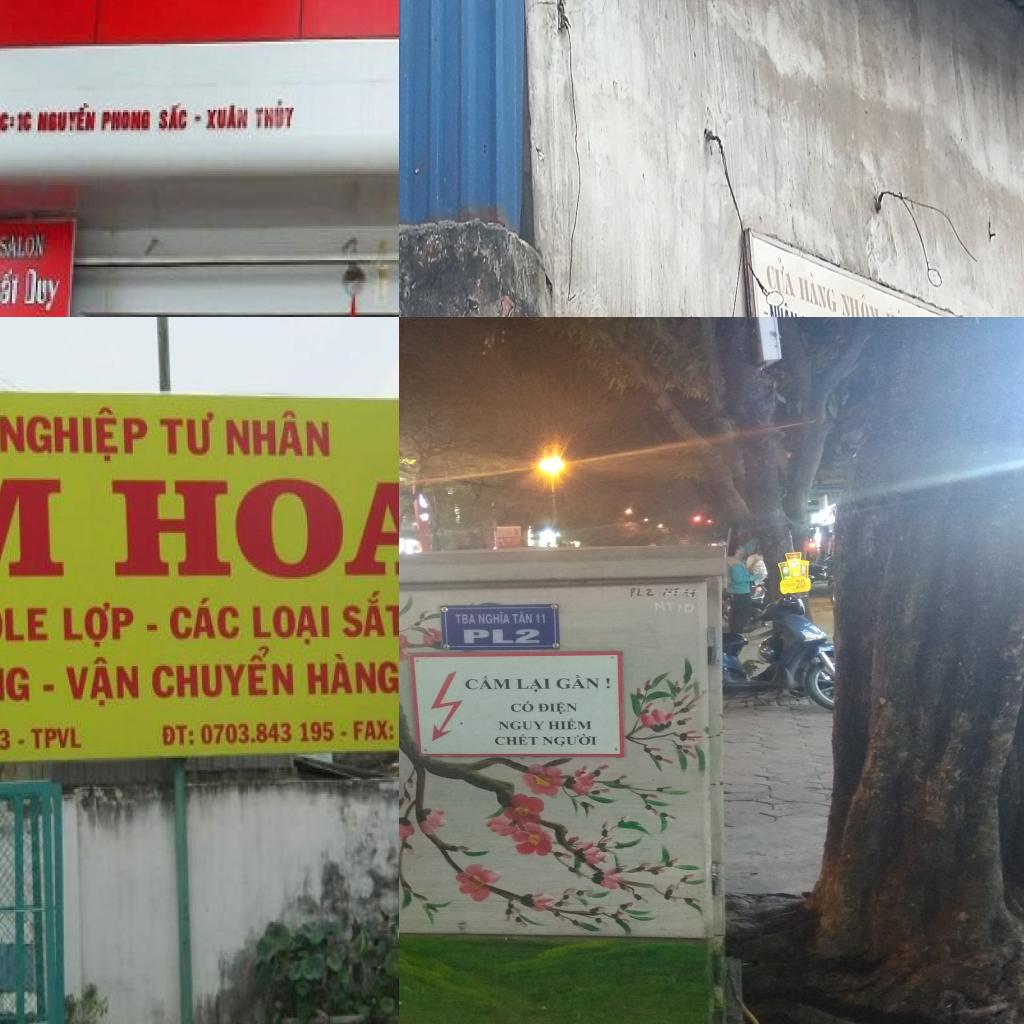text: (102, 469, 399, 589), (151, 646, 299, 710), (0, 403, 149, 464), (0, 466, 75, 587), (224, 408, 334, 463), (60, 647, 142, 714), (303, 650, 399, 705), (197, 716, 338, 752), (57, 598, 137, 654), (248, 598, 337, 647), (165, 596, 244, 645), (337, 585, 399, 643), (156, 408, 219, 461), (0, 599, 53, 652), (18, 264, 66, 317), (34, 98, 98, 132), (0, 655, 34, 715), (796, 268, 838, 314), (29, 722, 83, 753), (0, 230, 51, 262), (253, 96, 297, 133), (764, 252, 797, 300), (349, 714, 398, 746), (205, 101, 251, 133), (839, 287, 883, 317), (157, 722, 198, 752), (101, 108, 152, 132), (156, 101, 190, 135), (463, 629, 540, 644), (0, 262, 24, 310), (466, 675, 512, 690), (542, 734, 597, 746), (557, 675, 600, 689), (767, 299, 800, 317), (653, 601, 695, 614), (548, 718, 592, 730), (538, 702, 577, 715), (883, 304, 921, 317), (516, 678, 551, 692), (16, 108, 34, 135), (494, 734, 538, 745), (478, 611, 511, 624), (0, 110, 17, 135), (498, 721, 544, 730), (0, 725, 13, 754), (509, 701, 534, 712), (630, 587, 655, 598), (511, 611, 532, 624), (455, 614, 476, 625), (534, 614, 546, 624), (794, 579, 806, 589), (783, 582, 796, 589), (606, 678, 610, 689)
